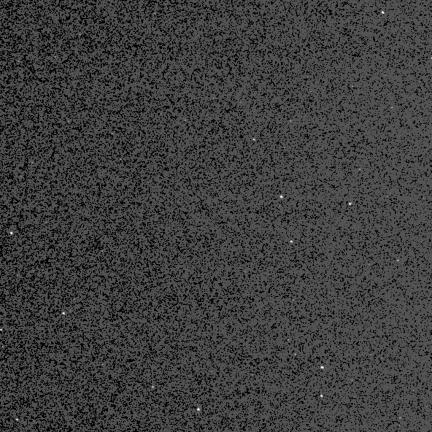blob: (197, 408, 201, 412), (280, 195, 284, 199), (382, 11, 385, 15), (10, 232, 14, 235), (63, 312, 66, 316), (321, 366, 324, 370), (321, 395, 324, 398), (349, 203, 352, 206), (291, 241, 294, 243), (254, 139, 256, 141)
